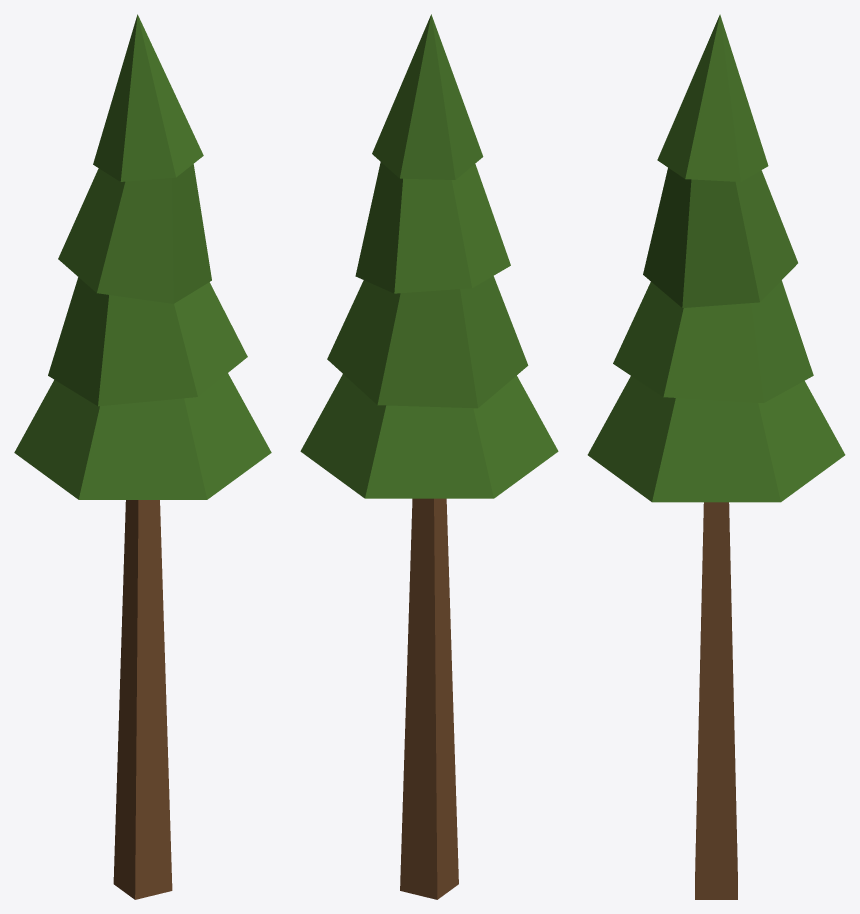
File: tree_pineTallD.glb
3 renders of one model, left to right at view 1: azimuth 30°, elevation 25°; view 2: azimuth 150°, elevation 25°; view 3: azimuth 270°, elevation 25°, orthographic.
Parts seen in each view (by area): view 1: tree_pineTallD; view 2: tree_pineTallD; view 3: tree_pineTallD.
Part boxes in pixels (box(x1,y1,x2,y2)): tree_pineTallD: box(14, 14, 271, 899); tree_pineTallD: box(300, 14, 558, 899); tree_pineTallD: box(587, 14, 845, 899).
Bounding box in the file's own units: 0.4804 × 2.08 × 0.5547.
